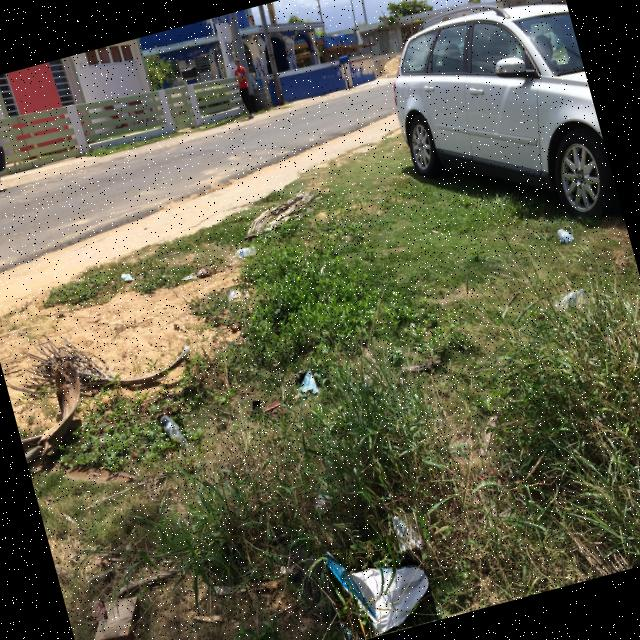Clear plastic bottle: (555, 288, 584, 311), (235, 246, 256, 256), (558, 228, 573, 242)
Disposable plastic cup: (227, 288, 248, 301)
Glass bottle: (160, 414, 189, 448)
Plastic bottle cap: (561, 239, 564, 242)
Plastic film: (323, 551, 429, 635)
Unlabeled litter: (395, 517, 422, 551), (298, 371, 320, 393), (94, 601, 106, 620), (182, 273, 197, 279), (122, 274, 133, 280)
